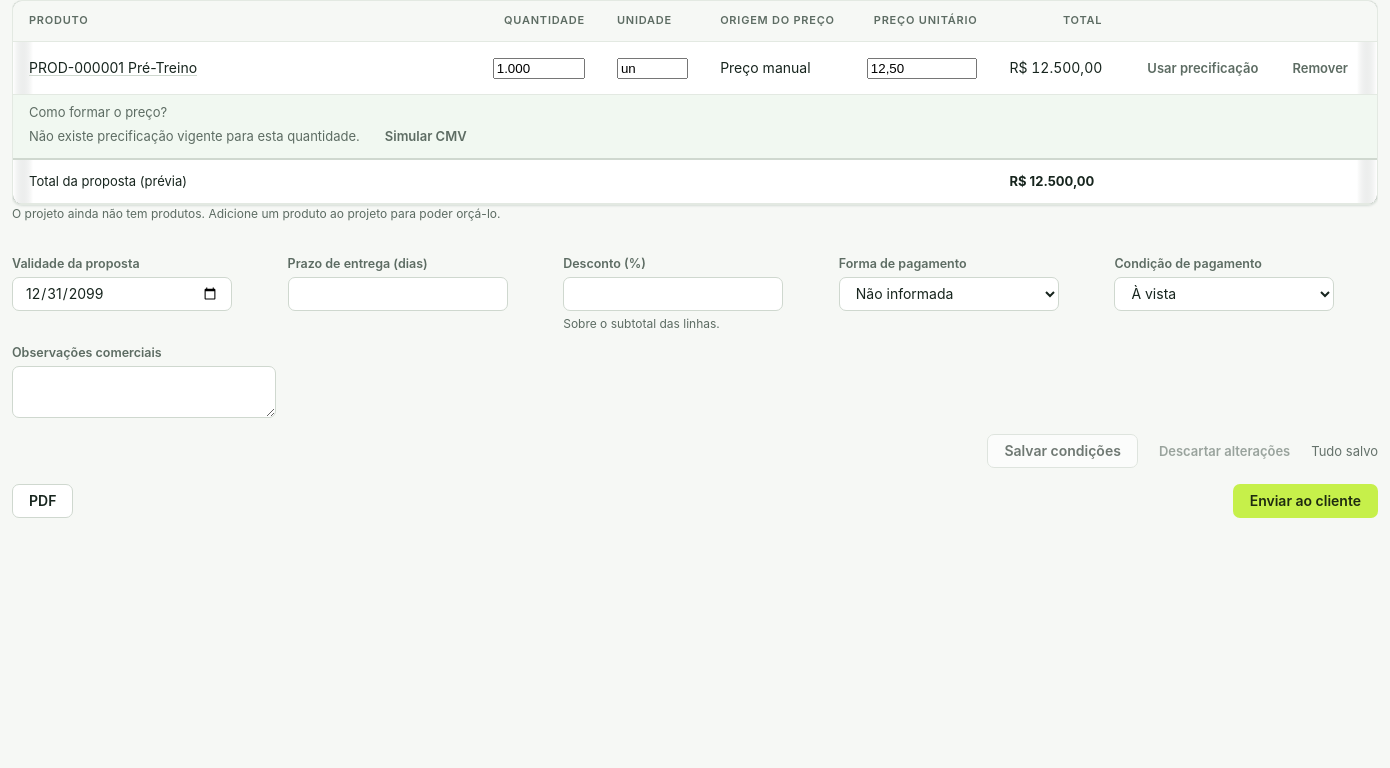
Scenario: QUOTE-LINE-NOOP-BLUR-01 — alteração real continua gravando › texto ilegível não vira pedido: o erro aparece e o envio fica preso
Replace the text in the field named "Quantidade de PROD-000001" with "1.234" at (539, 68), box [493,58,585,79]
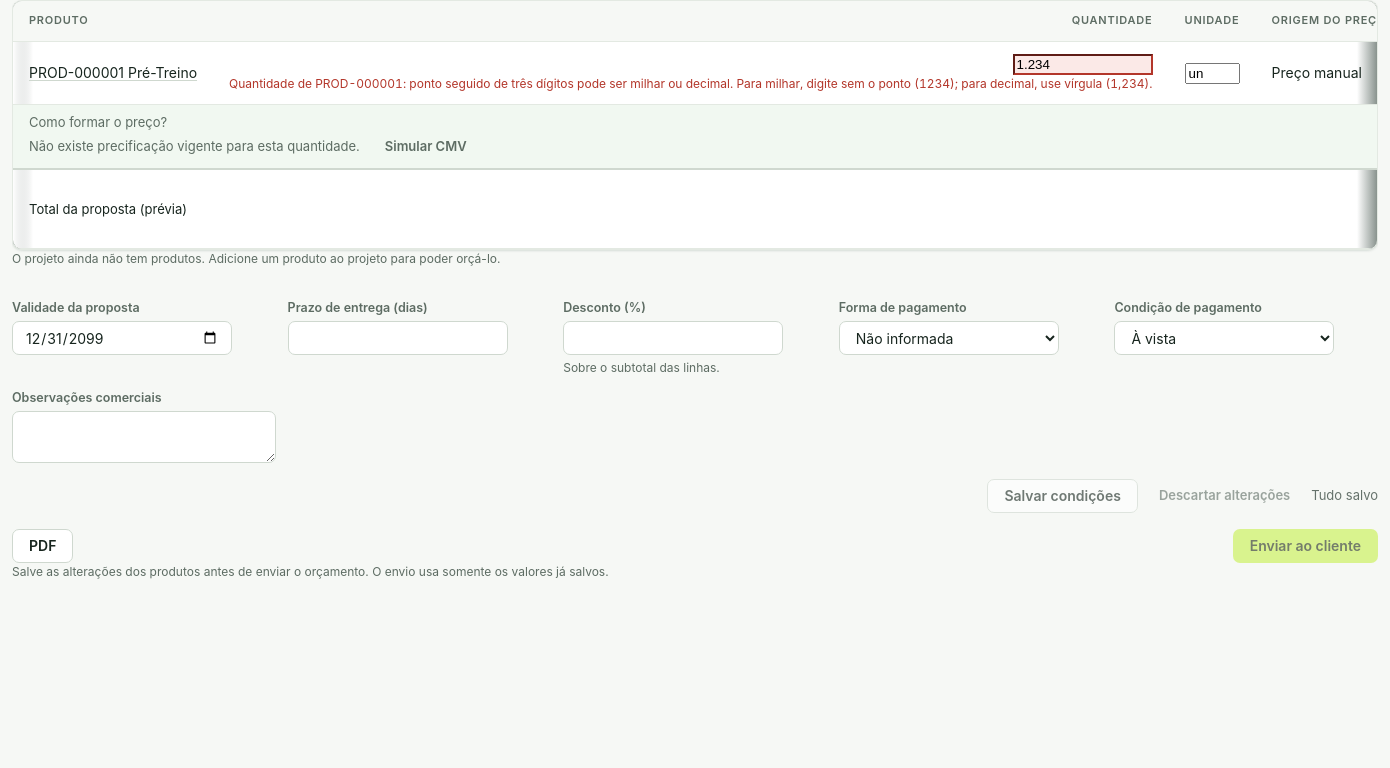
Leave the field named "Quantidade de PROD-000001", box [1012,54,1152,75]
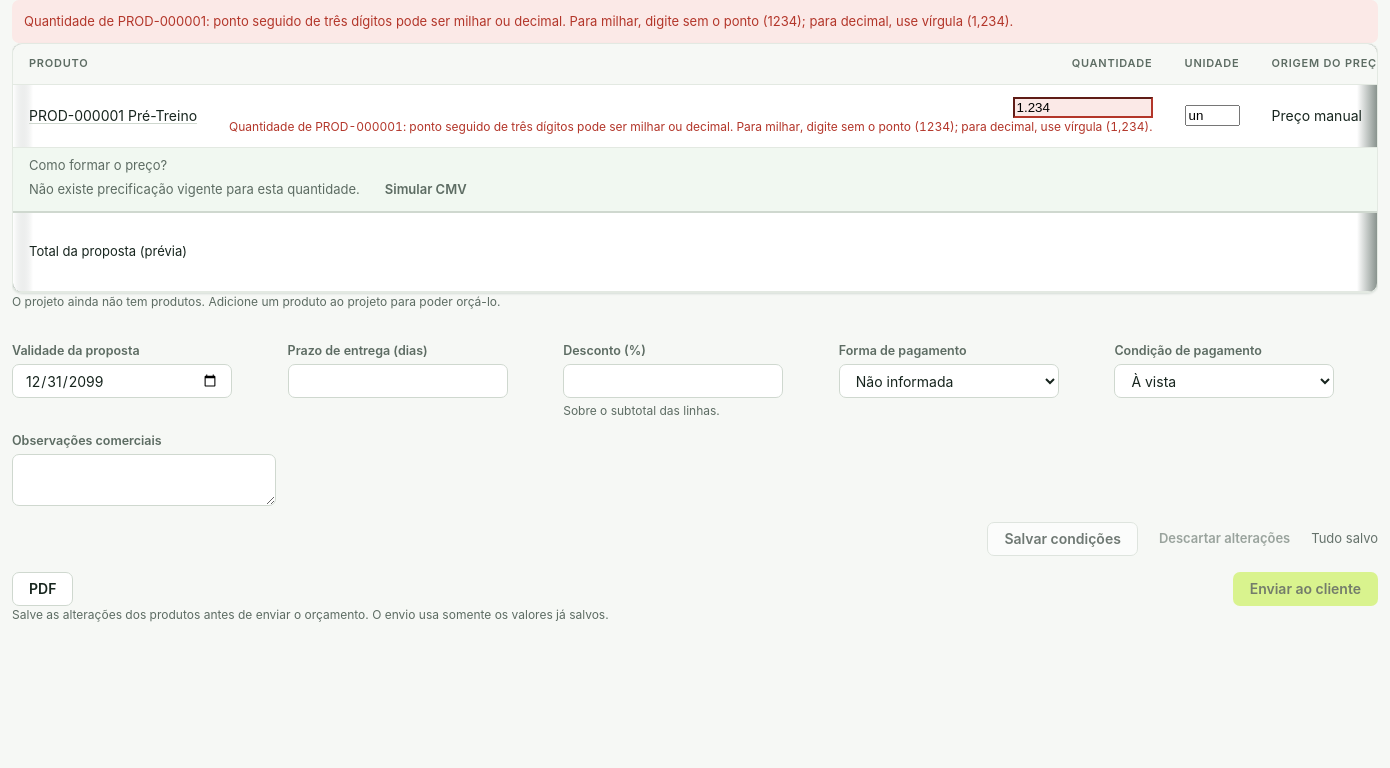
Check: the button "Enviar ao cliente" is disabled, box [1233,572,1378,606]
Check: the 1st message is shown, box [12,0,1378,43]
